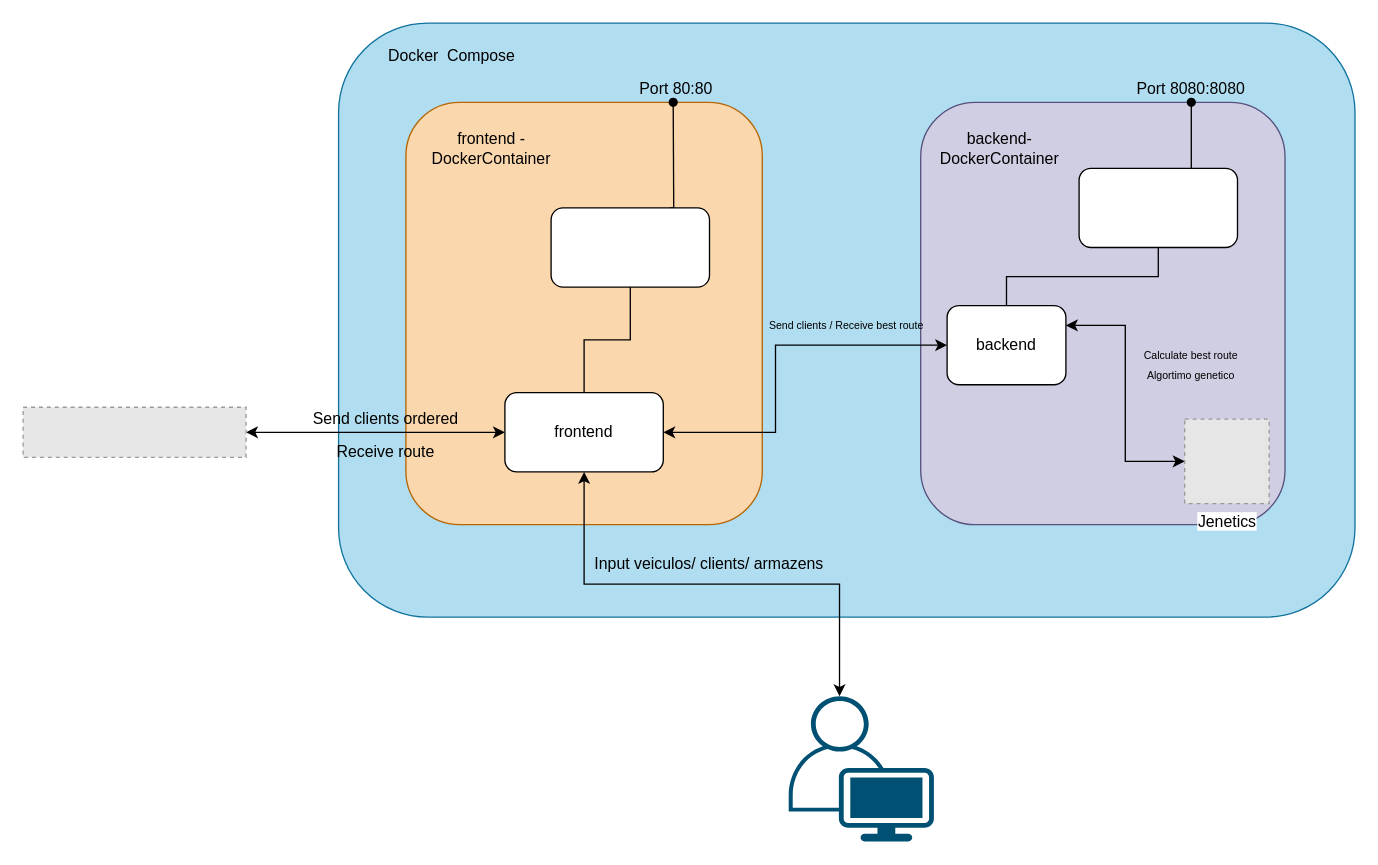
Image size: 1378x865. Some labels were removed from this diagram. Grey dashed boxes stand in for pictures. The centre of each missing label's shape, as x and y in pixels:
"NGINX" goes at point (630, 247).
"OpenJDK 11" goes at point (1158, 207).
